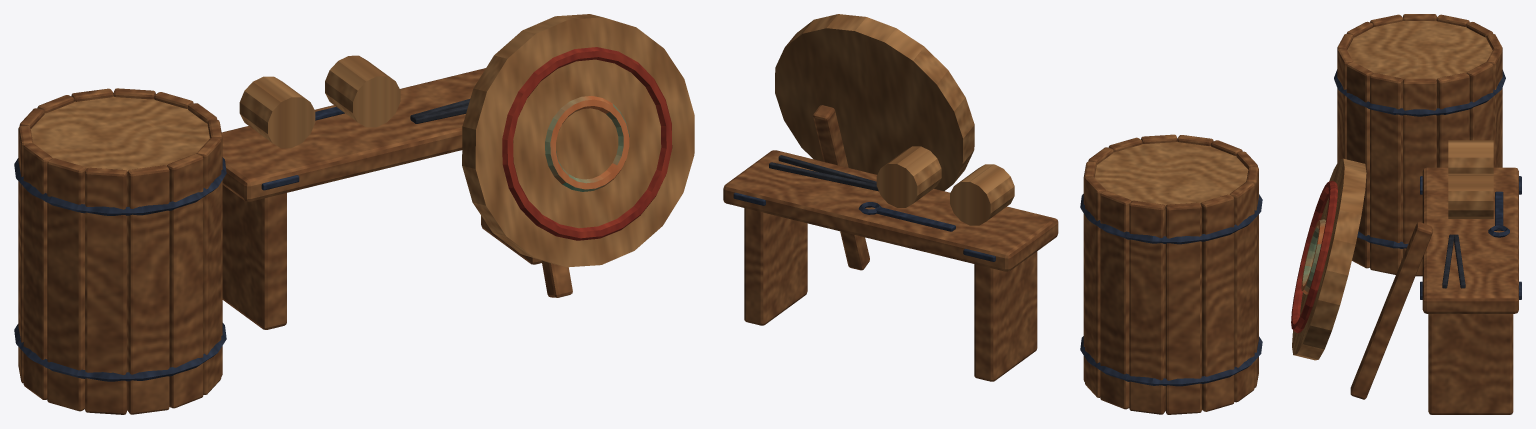
The model's file is yard_dressing.glb.
3 renders of one model, left to right at view 1: azimuth 30°, elevation 25°; view 2: azimuth 150°, elevation 25°; view 3: azimuth 270°, elevation 25°, orthographic. The views are drawn at different scales.
Visible parts, largest first — view 1: Target_Face, Bench_Top, Barrel_Lid, Barrel_Stave_9, Barrel_Stave_10, Barrel_Stave_8, Barrel_Stave_11, Bench_Leg_-1, Target_Ring_0.26, Barrel_Stave_7, Barrel_Stave_12, Spool_0 (+7 smaller); view 2: Target_Face, Bench_Top, Barrel_Lid, Barrel_Stave_5, Barrel_Stave_4, Bench_Leg_-1, Barrel_Stave_6, Bench_Leg_1, Barrel_Stave_3, Barrel_Stave_7, Barrel_Stave_2, Spool_1 (+9 smaller); view 3: Bench_Top, Bench_Leg_1, Barrel_Lid, Barrel_Stave_13, Target_Face, Barrel_Stave_0, Target_Stand, Barrel_Stave_12, Target_Ring_0.26, Barrel_Stave_1, Spool_1, Barrel_Stave_2 (+12 smaller).
Boxes of the visible parts, x1,y1,x2,y2 form: Target_Face: (462, 14, 694, 267); Bench_Top: (221, 68, 485, 201); Barrel_Lid: (30, 96, 209, 171); Barrel_Stave_9: (85, 167, 127, 414); Barrel_Stave_10: (127, 165, 169, 414); Barrel_Stave_8: (47, 158, 86, 411); Barrel_Stave_11: (167, 153, 203, 408); Bench_Leg_-1: (222, 185, 286, 329); Target_Ring_0.26: (502, 47, 672, 240); Barrel_Stave_7: (23, 143, 52, 399); Barrel_Stave_12: (196, 137, 221, 394); Spool_0: (239, 76, 315, 148); Target_Face: (775, 14, 974, 191); Bench_Top: (723, 150, 1058, 271); Barrel_Lid: (1094, 141, 1248, 206); Barrel_Stave_5: (1165, 202, 1201, 414); Barrel_Stave_4: (1129, 200, 1165, 414); Bench_Leg_-1: (974, 251, 1037, 381); Barrel_Stave_6: (1200, 194, 1234, 411); Bench_Leg_1: (744, 208, 807, 325); Barrel_Stave_3: (1100, 190, 1131, 409); Barrel_Stave_7: (1230, 181, 1254, 402); Barrel_Stave_2: (1085, 177, 1105, 397); Spool_1: (876, 146, 941, 207); Bench_Top: (1422, 167, 1518, 313); Bench_Leg_1: (1428, 314, 1513, 414); Barrel_Lid: (1347, 21, 1492, 79); Barrel_Stave_13: (1370, 73, 1402, 274); Target_Face: (1292, 158, 1366, 360); Barrel_Stave_0: (1403, 78, 1436, 276); Target_Stand: (1350, 222, 1432, 399); Barrel_Stave_12: (1346, 62, 1372, 268); Target_Ring_0.26: (1291, 180, 1337, 333); Barrel_Stave_1: (1436, 73, 1469, 167); Spool_1: (1448, 173, 1493, 218); Barrel_Stave_2: (1466, 62, 1493, 140).
Size of the model in its own units: 1.98 by 0.9081 by 0.8147.
6 materials, 6 textured.
